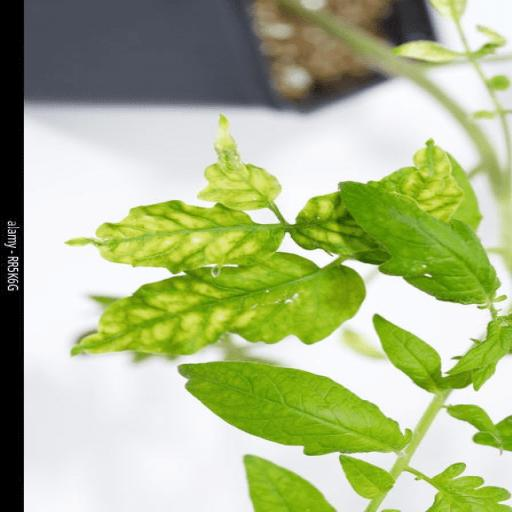disease_tomato: (62, 249, 370, 359), (290, 135, 466, 256), (62, 200, 288, 276), (196, 110, 286, 212)
